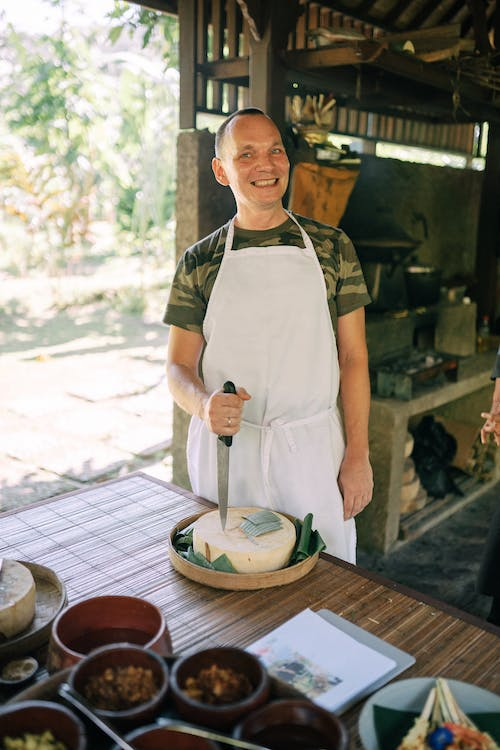knife: (214, 379, 237, 531)
